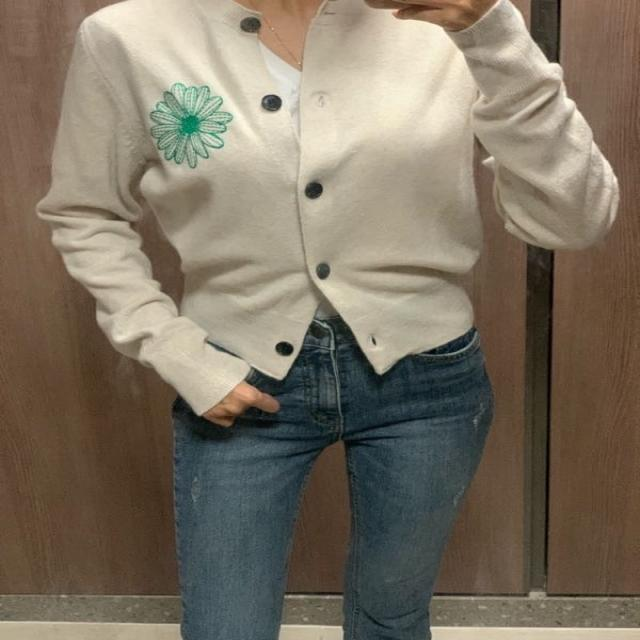cardigan: (35, 0, 617, 418)
denimpants: (165, 311, 493, 640)
